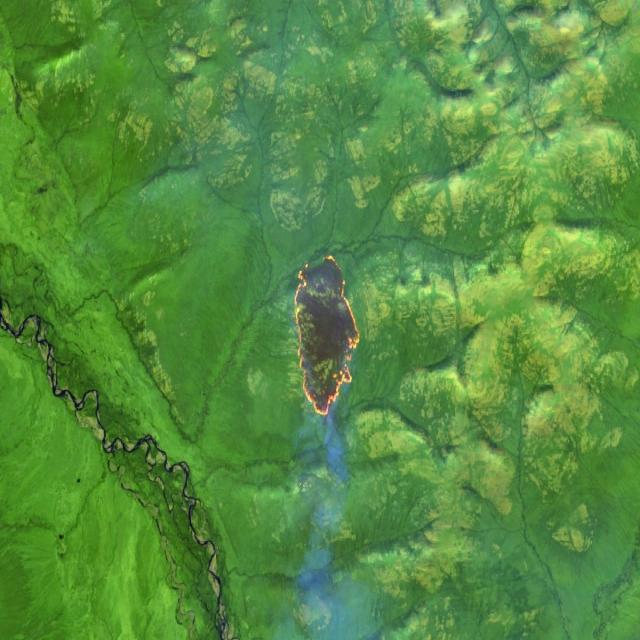fire: (291, 248, 363, 422)
